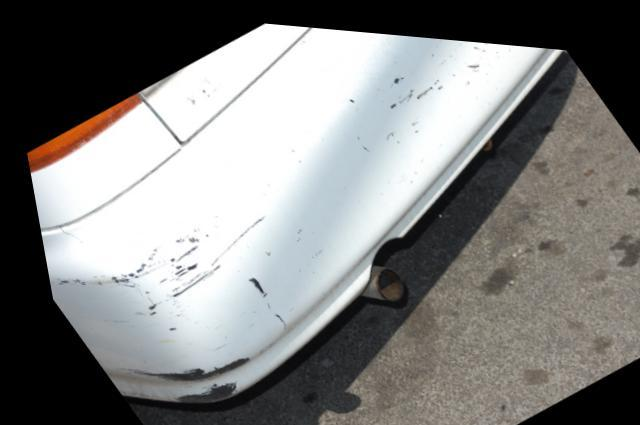scratch: (43, 207, 302, 405), (343, 29, 506, 147)
